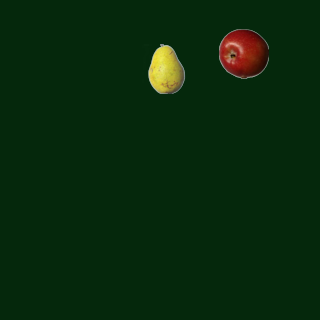Apple Braeburn: (218, 28, 268, 78)
Pear Monster: (141, 43, 191, 93)
